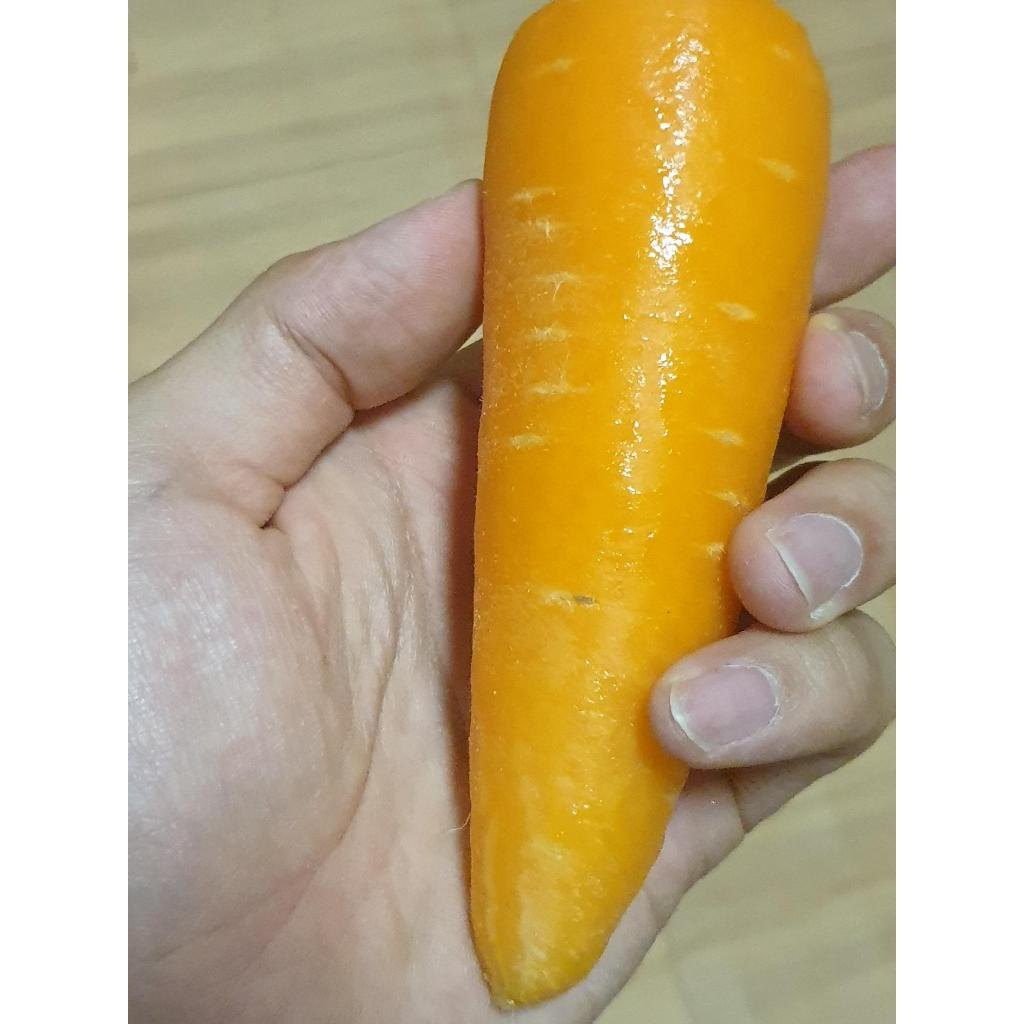carrot: (470, 0, 828, 1006)
